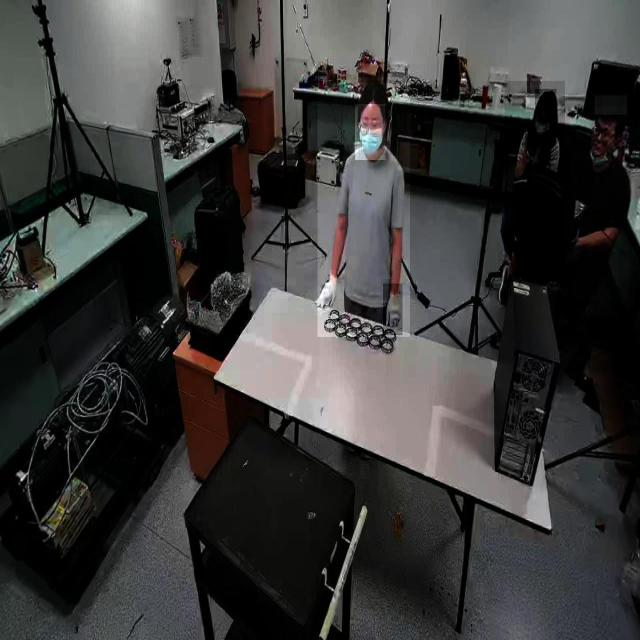face_mask: (355, 104, 385, 160), (536, 106, 552, 143)
face_nomask: (589, 117, 616, 155)
hand_glove: (314, 270, 342, 316), (383, 284, 403, 336)
hand_noglove: (514, 148, 534, 172)
head_nohelmet: (358, 77, 388, 107), (594, 95, 628, 116), (535, 89, 557, 108)
person: (318, 82, 410, 338), (504, 81, 566, 283), (570, 107, 630, 303)
